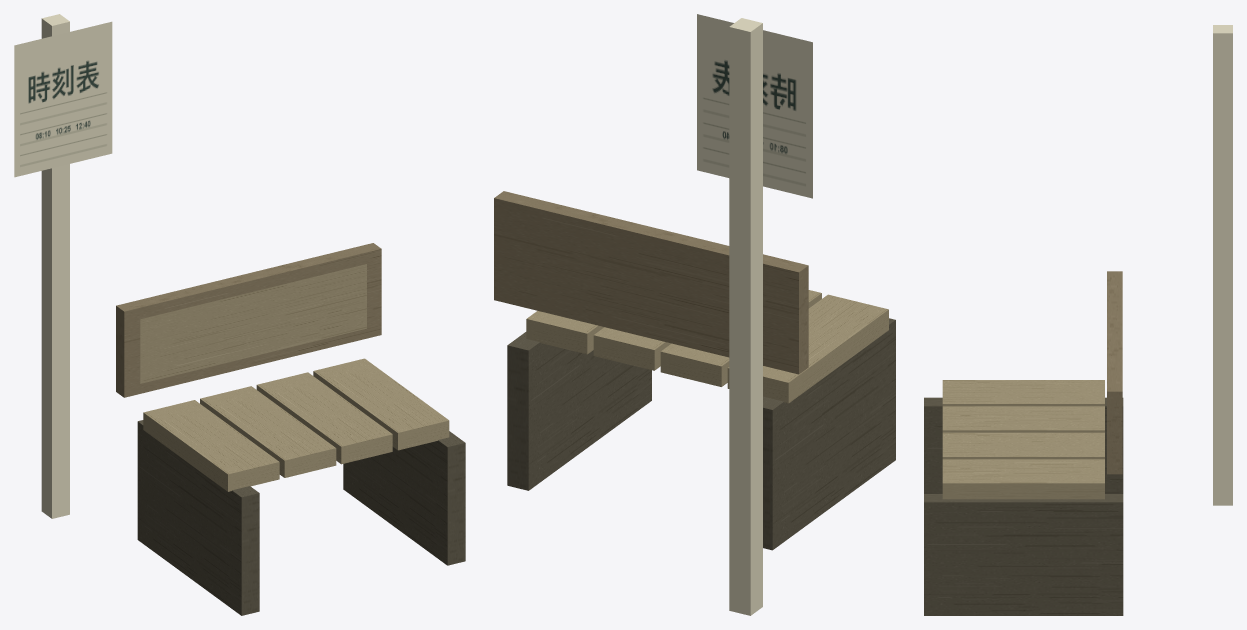
The model's file is Background_BenchAndTimetable.obj.
3 renders of one model, left to right at view 1: azimuth 30°, elevation 25°; view 2: azimuth 150°, elevation 25°; view 3: azimuth 270°, elevation 25°, orthographic. The views are drawn at different scales.
Parts seen in each view (by area): view 1: Background_BenchAndTimetable; view 2: Background_BenchAndTimetable; view 3: Background_BenchAndTimetable.
Part boxes in pixels (x1,y1,x2,y2): Background_BenchAndTimetable: (14,14,465,615); Background_BenchAndTimetable: (494,14,895,615); Background_BenchAndTimetable: (924,25,1232,615).
Bounding box in the file's own units: 1.22 × 1.83 × 1.09.
Materials: 1 (1 with a texture image).
